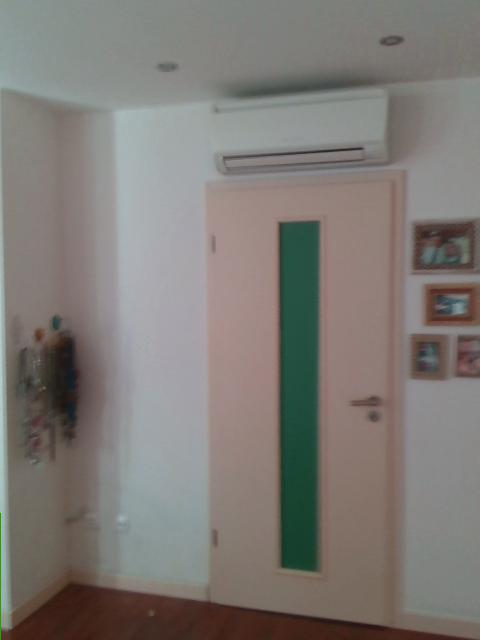closed_door: (200, 168, 404, 630)
